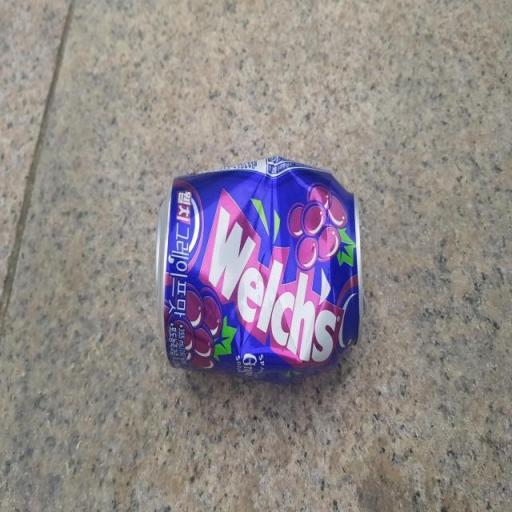metal: (132, 138, 388, 398)
